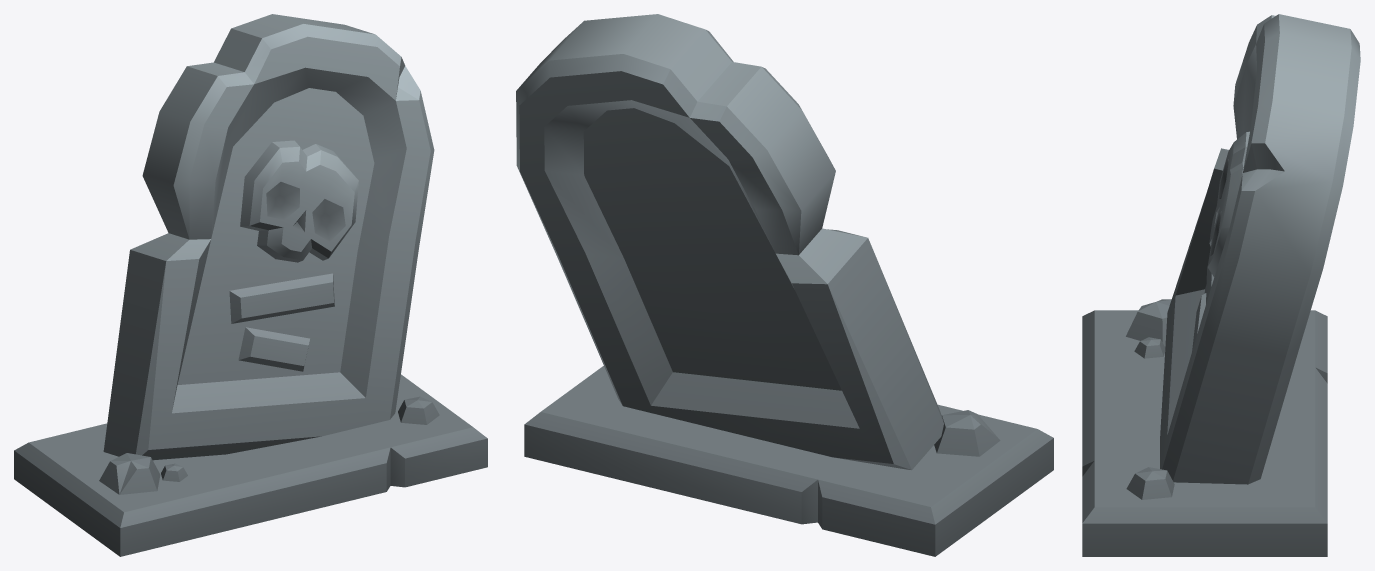
Rendered from grave_a_destroyed.glb.
3 views of the same model, side by side, from view 1: azimuth 30°, elevation 25°; view 2: azimuth 150°, elevation 25°; view 3: azimuth 270°, elevation 25° (orthographic). The views are drawn at different scales.
Parts seen in each view (by area): view 1: grave_A_destroyed; view 2: grave_A_destroyed; view 3: grave_A_destroyed.
Part boxes in pixels (x1=…): grave_A_destroyed: x1=14, y1=14, x2=487, y2=556; grave_A_destroyed: x1=516, y1=14, x2=1053, y2=556; grave_A_destroyed: x1=1082, y1=14, x2=1360, y2=556.
Bounding box in the file's own units: 2.08 × 2.11 × 1.14.
1 material, 1 textured.
